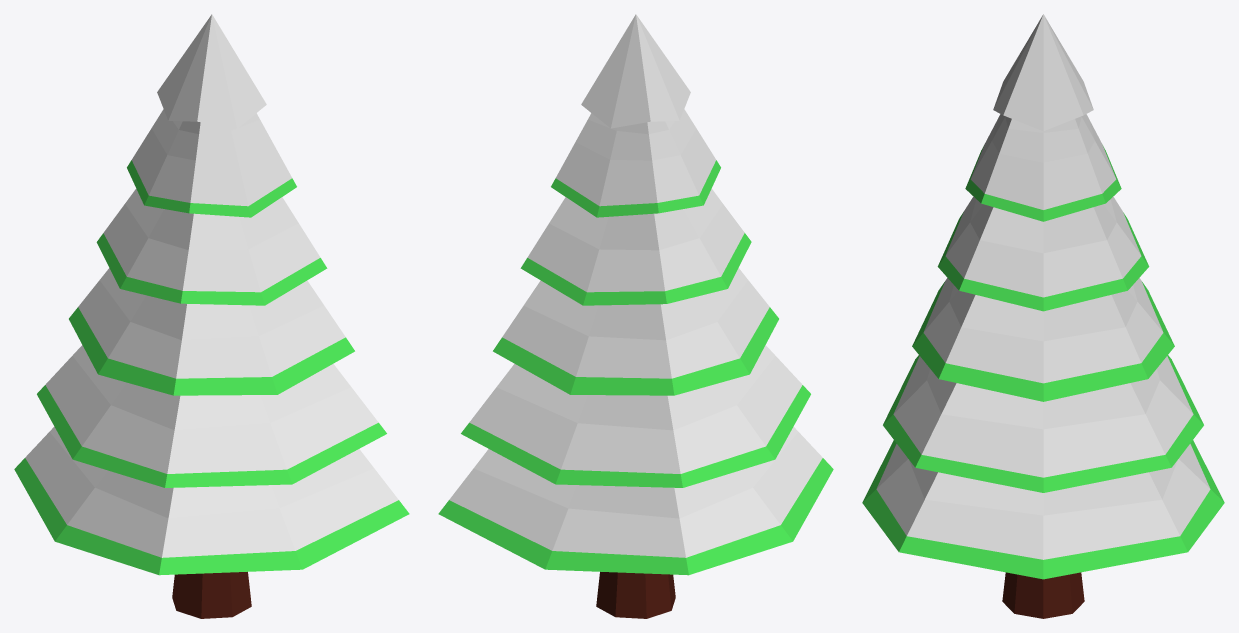
File: Pino Nevado.fbx
3 views of the same model, side by side, from view 1: azimuth 30°, elevation 25°; view 2: azimuth 150°, elevation 25°; view 3: azimuth 270°, elevation 25° (orthographic).
Parts seen in each view (by area): view 1: Pino; view 2: Pino; view 3: Pino.
Part boxes in pixels (x1=…): Pino: x1=14, y1=14, x2=409, y2=618; Pino: x1=438, y1=14, x2=833, y2=618; Pino: x1=862, y1=14, x2=1224, y2=618.
Size of the model in its own units: 296 by 529 by 296.
